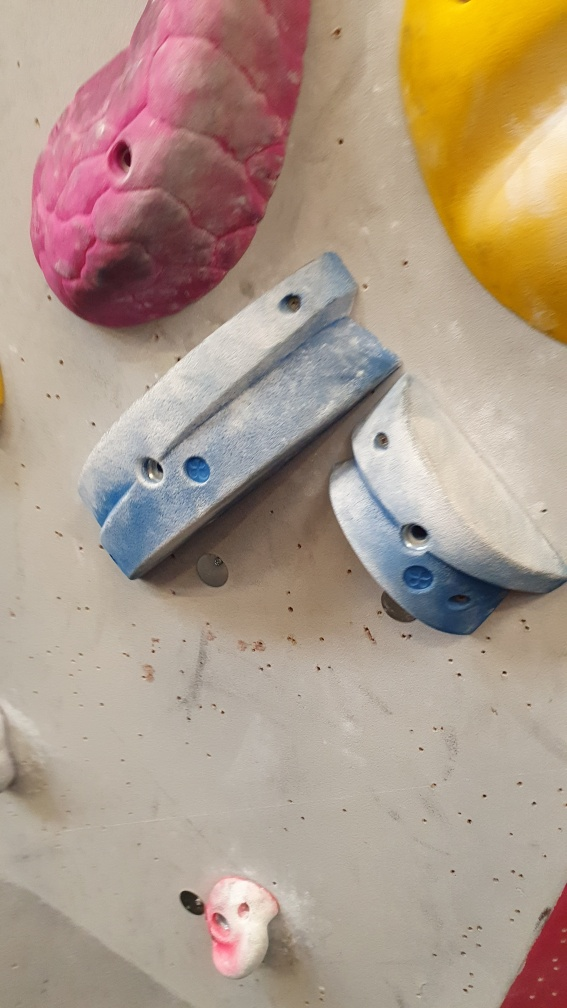Hand Start: (194, 552, 230, 592), (178, 889, 208, 919)
Pinch: (74, 251, 405, 588), (326, 372, 567, 640)
